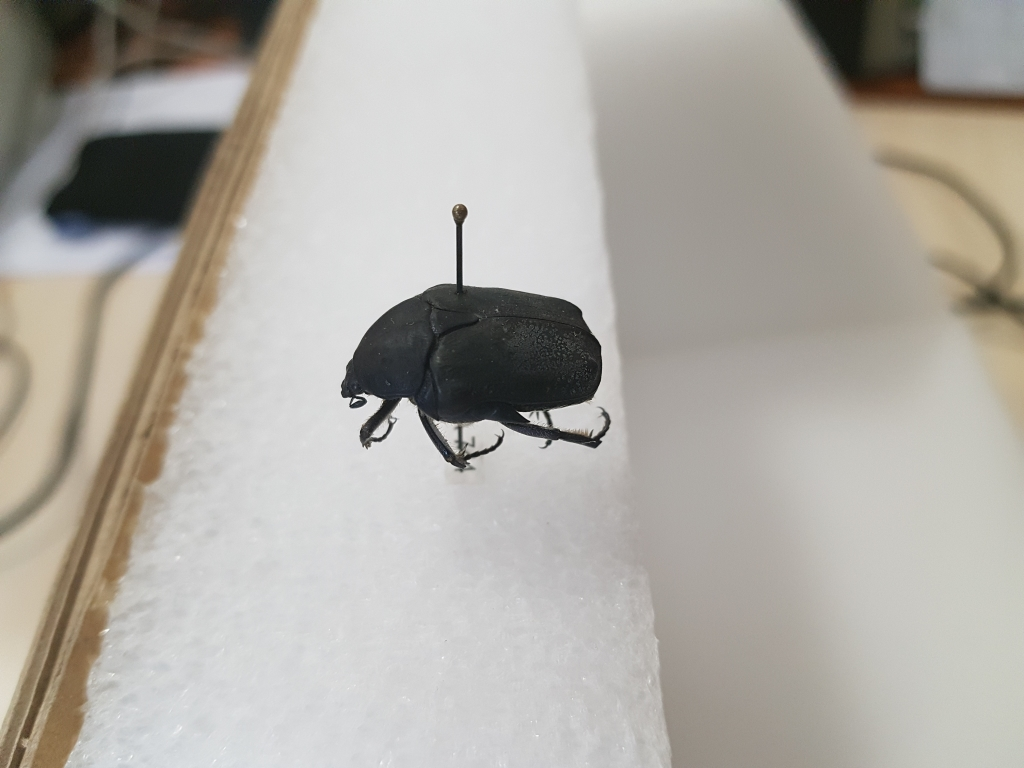Protaetia_afflicta: (335, 274, 615, 474)
